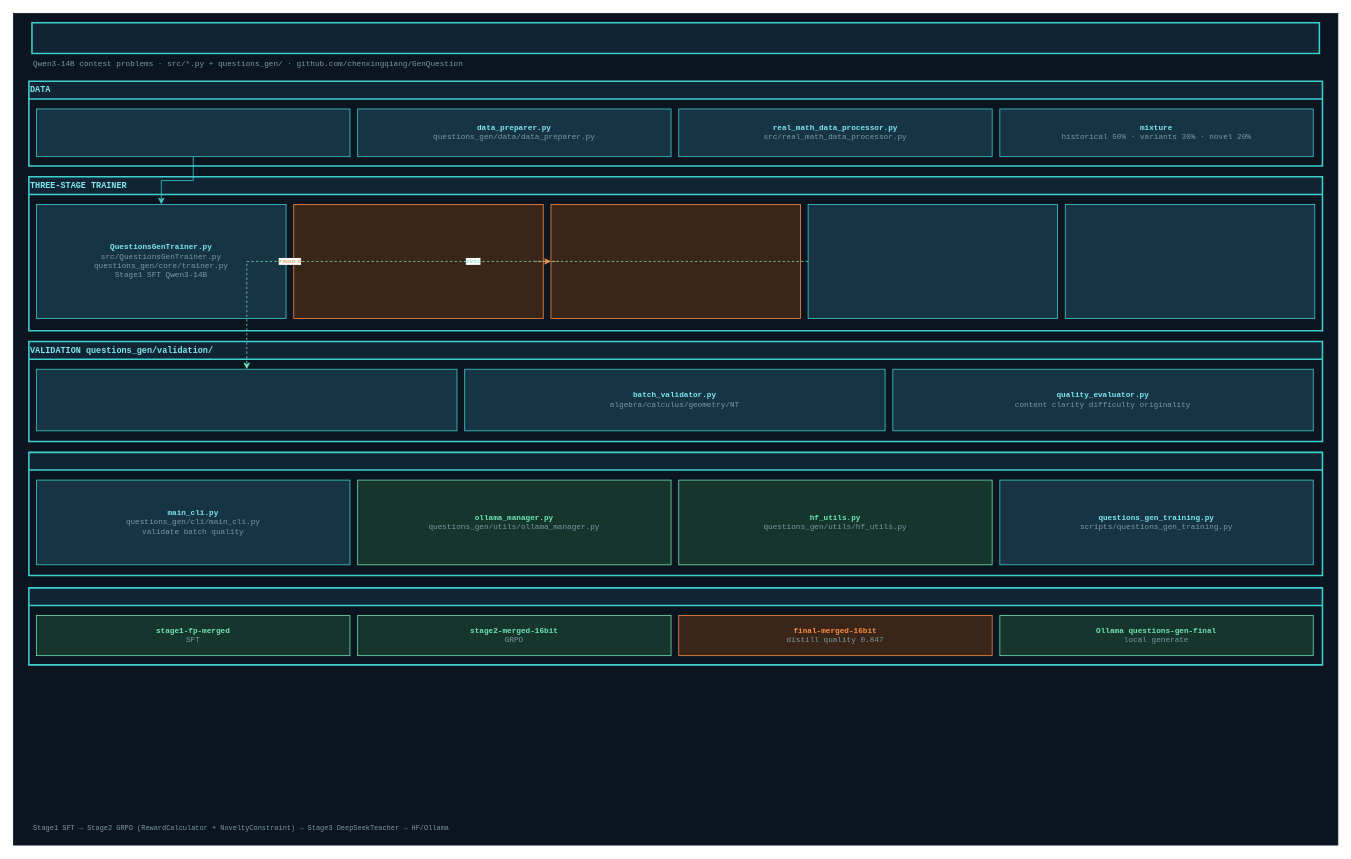
Image size: 1351x859. Some labels were removed from this diagram. Here are the shapes that lost their labels. From the top down, the box of each, then its label:
(31, 22, 1320, 54): QUESTIONS-GEN — SYSTEM ARCHITECTURE
(36, 108, 350, 157): QuestionDataPreparer.py src/QuestionDataPreparer.py
(293, 204, 543, 318): RewardCalculator.py src/RewardCalculator.py 0.4 diff 0.3 nov 0.2 rigor 0.1 div
(550, 204, 800, 318): NoveltyConstraint.py src/NoveltyConstraint.py GRPO 8-problem groups
(807, 204, 1058, 318): DeepSeekTeacher.py src/DeepSeekTeacher.py Stage3 distill R1
(1065, 204, 1315, 318): config.py src/config.py questions_gen/core/config.py
(36, 368, 457, 431): model_validator.py single-model n tests
(28, 451, 1323, 576): PACKAGE / CLI / DEPLOY
(28, 587, 1323, 665): ARTIFACTS Hugging Face xingqiang/*
